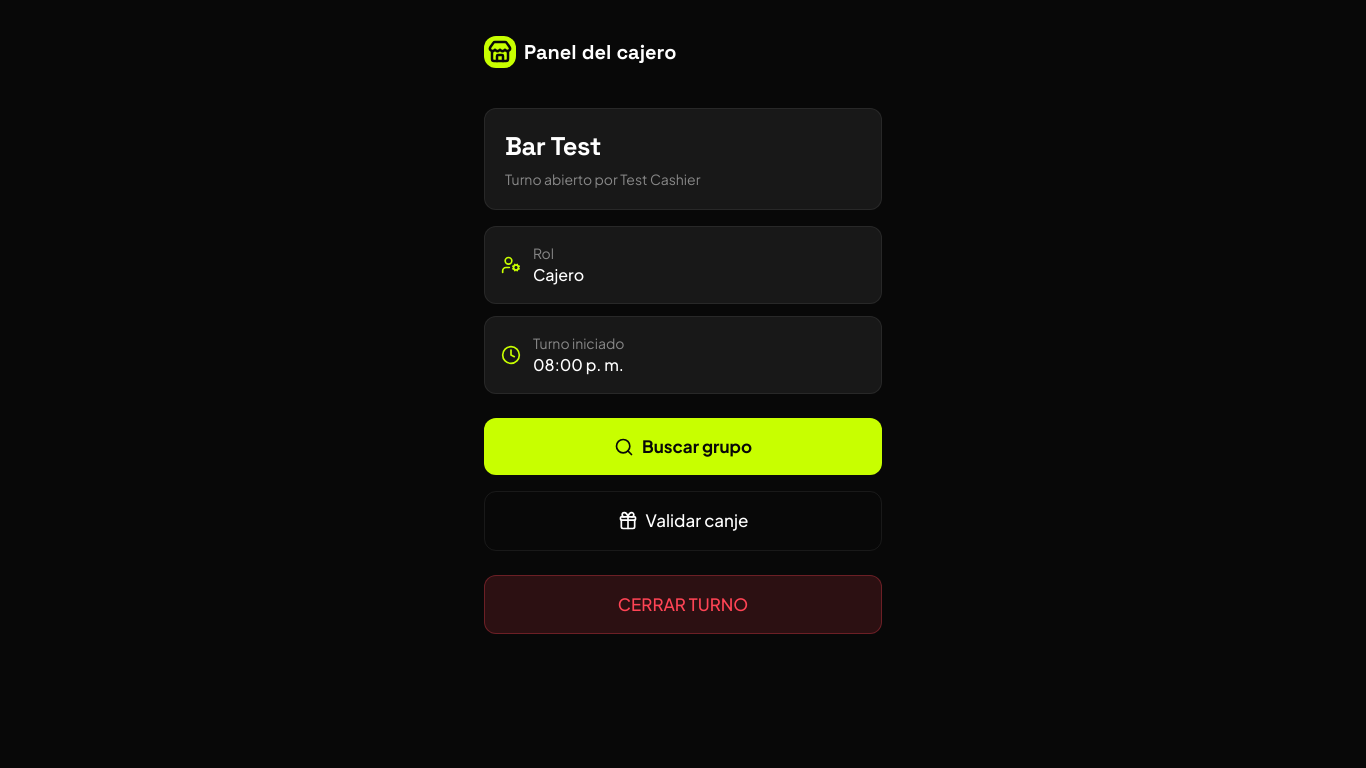
Test case: CashierPanelView shift closing › shows a non-blocking warning for pending or disputed consumptions
The width and height of the screenshot is (1366, 768).
Step 1. Click the button "CERRAR TURNO" → [683, 605], box [484,575,882,634]
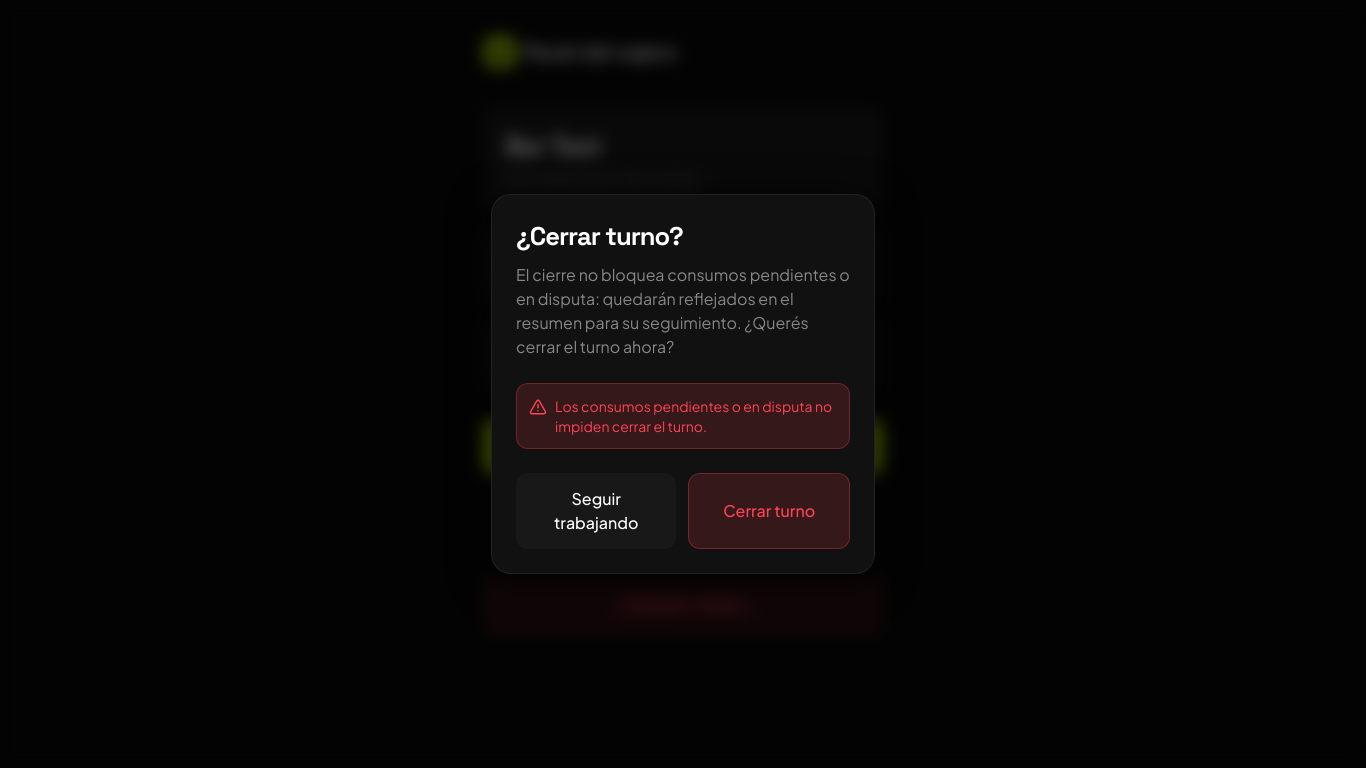
Expected: the message shows "pendientes o en disputa", [555,397,832,435]
Expected: the button "Seguir trabajando" is shown, [516,473,676,549]
